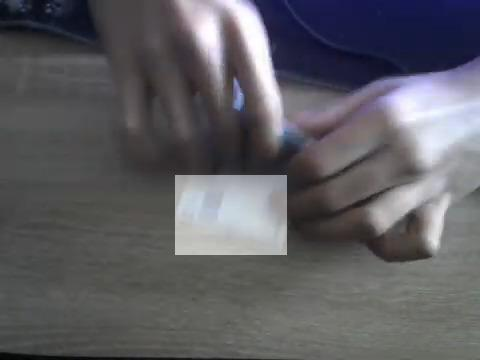20leva: (175, 175, 287, 255)
